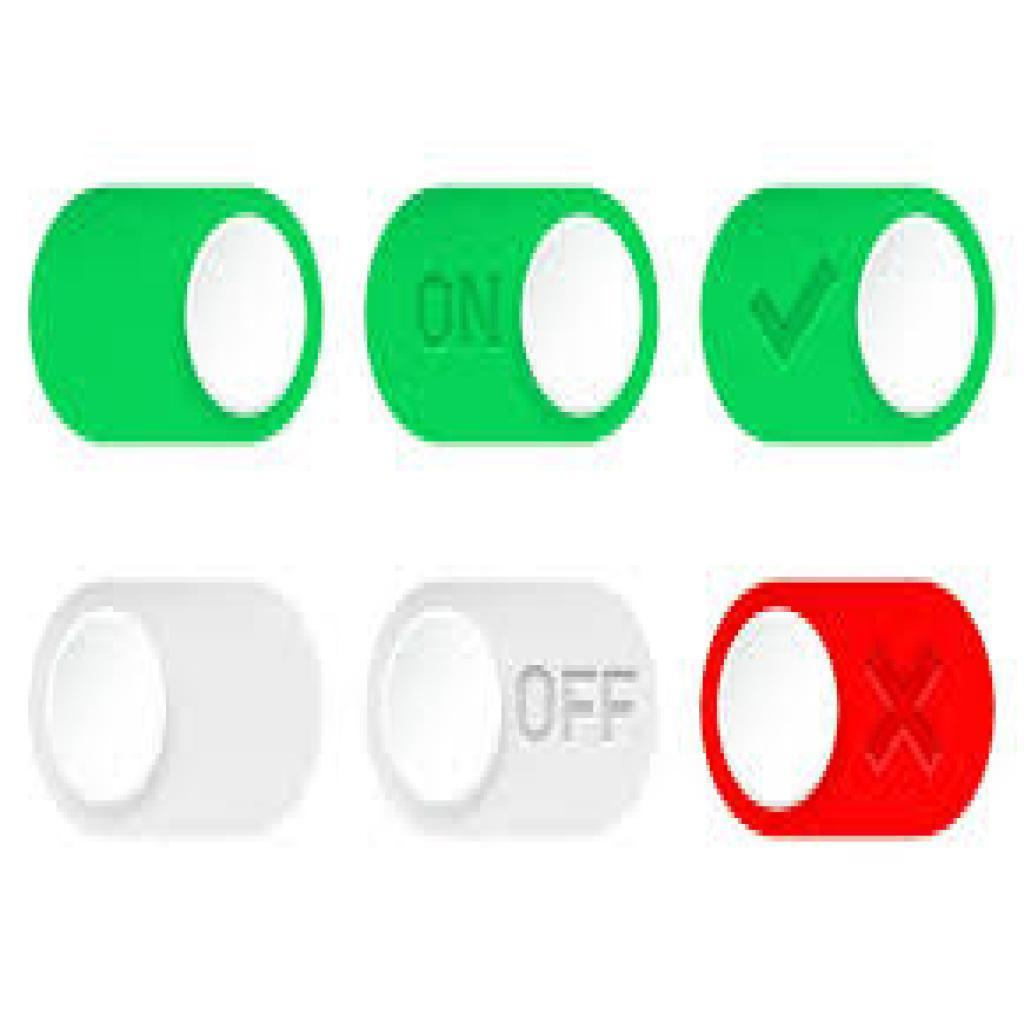switch: (701, 578, 1002, 840), (701, 186, 996, 450), (365, 581, 663, 842), (28, 186, 325, 446), (364, 188, 661, 448), (26, 582, 322, 834)
